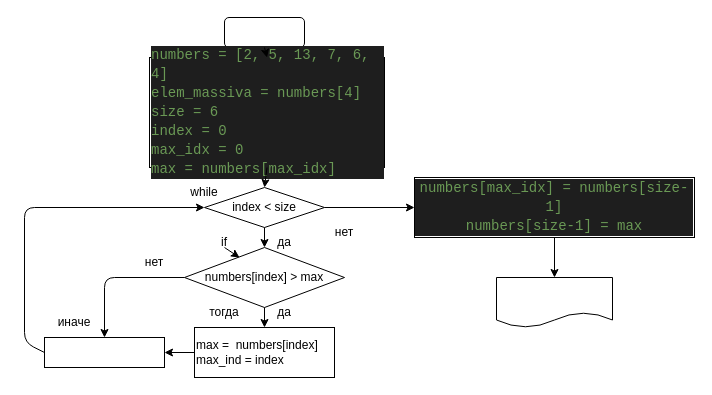
This 712x395 diagram has some shape labels left out. The centre of each missing label's shape, as x and y in pixels:
index = index + 1: the point at 104,352
print(max) print(max_in): the point at 554,302
start: the point at 264,32
